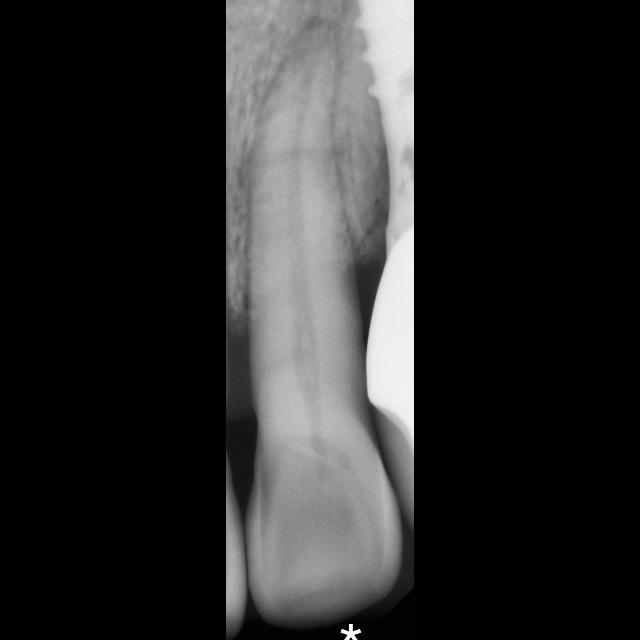tooth: (244, 17, 403, 628)
